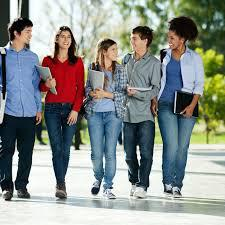Person: (46, 23, 83, 198), (121, 25, 158, 198), (162, 18, 199, 190), (1, 18, 34, 196), (89, 38, 119, 203)
